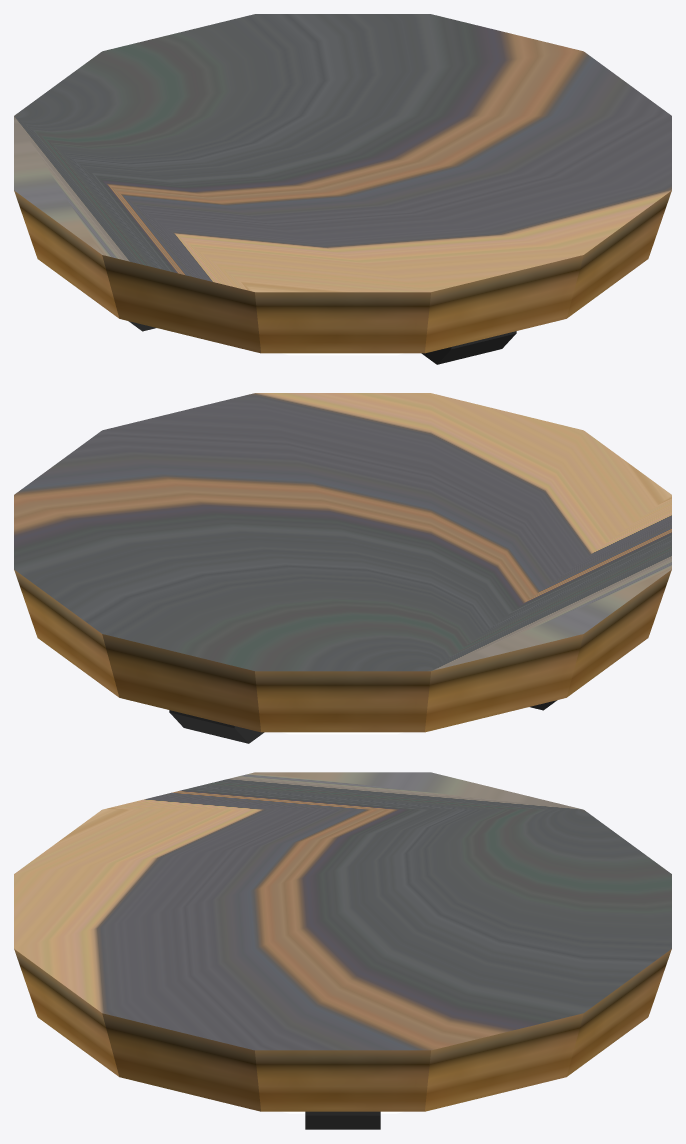
Rendered from entity83420.glb.
3 views of the same model, one above another, from view 1: azimuth 30°, elevation 25°; view 2: azimuth 150°, elevation 25°; view 3: azimuth 270°, elevation 25° (orthographic).
Visible parts, largest first — view 1: node_SM_Bld_Light_09 (1); view 2: node_SM_Bld_Light_09 (1); view 3: node_SM_Bld_Light_09 (1).
Boxes of the visible parts, box(x1,y1,x2,y2) form: node_SM_Bld_Light_09 (1): box(14, 14, 671, 364); node_SM_Bld_Light_09 (1): box(14, 393, 671, 743); node_SM_Bld_Light_09 (1): box(14, 772, 671, 1129).
Bounding box in the file's own units: 1.17 × 0.2299 × 1.17.
Materials: 1 (1 with a texture image).
